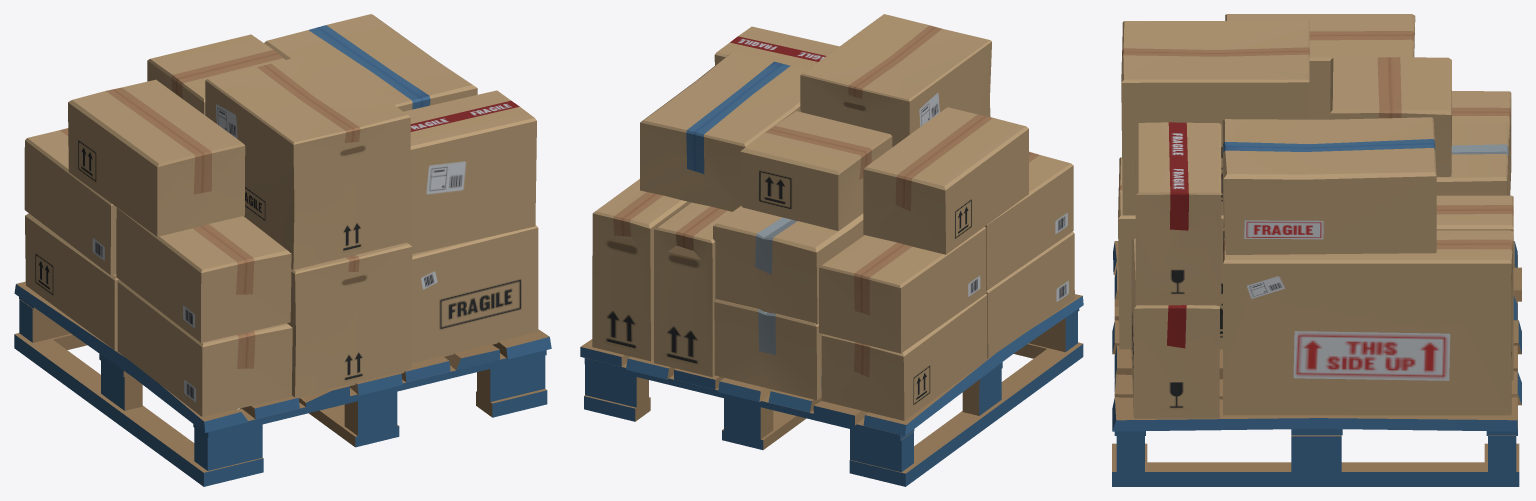
The model's file is SM_Prop_Warehouse_Boxes_Stacked_04.obj.
3 views of the same model, side by side, from view 1: azimuth 30°, elevation 25°; view 2: azimuth 150°, elevation 25°; view 3: azimuth 270°, elevation 25° (orthographic). The views are drawn at different scales.
Visible parts, largest first — view 1: SM_Prop_Warehouse_Boxes_Stacked_04_0; view 2: SM_Prop_Warehouse_Boxes_Stacked_04_0; view 3: SM_Prop_Warehouse_Boxes_Stacked_04_0.
Boxes of the visible parts, x1,y1,x2,y2 form: SM_Prop_Warehouse_Boxes_Stacked_04_0: (14,14,551,486); SM_Prop_Warehouse_Boxes_Stacked_04_0: (580,14,1083,486); SM_Prop_Warehouse_Boxes_Stacked_04_0: (1112,14,1521,486).
Bounding box in the file's own units: 1.44 × 1.27 × 1.39.
Materials: 1 (1 with a texture image).
